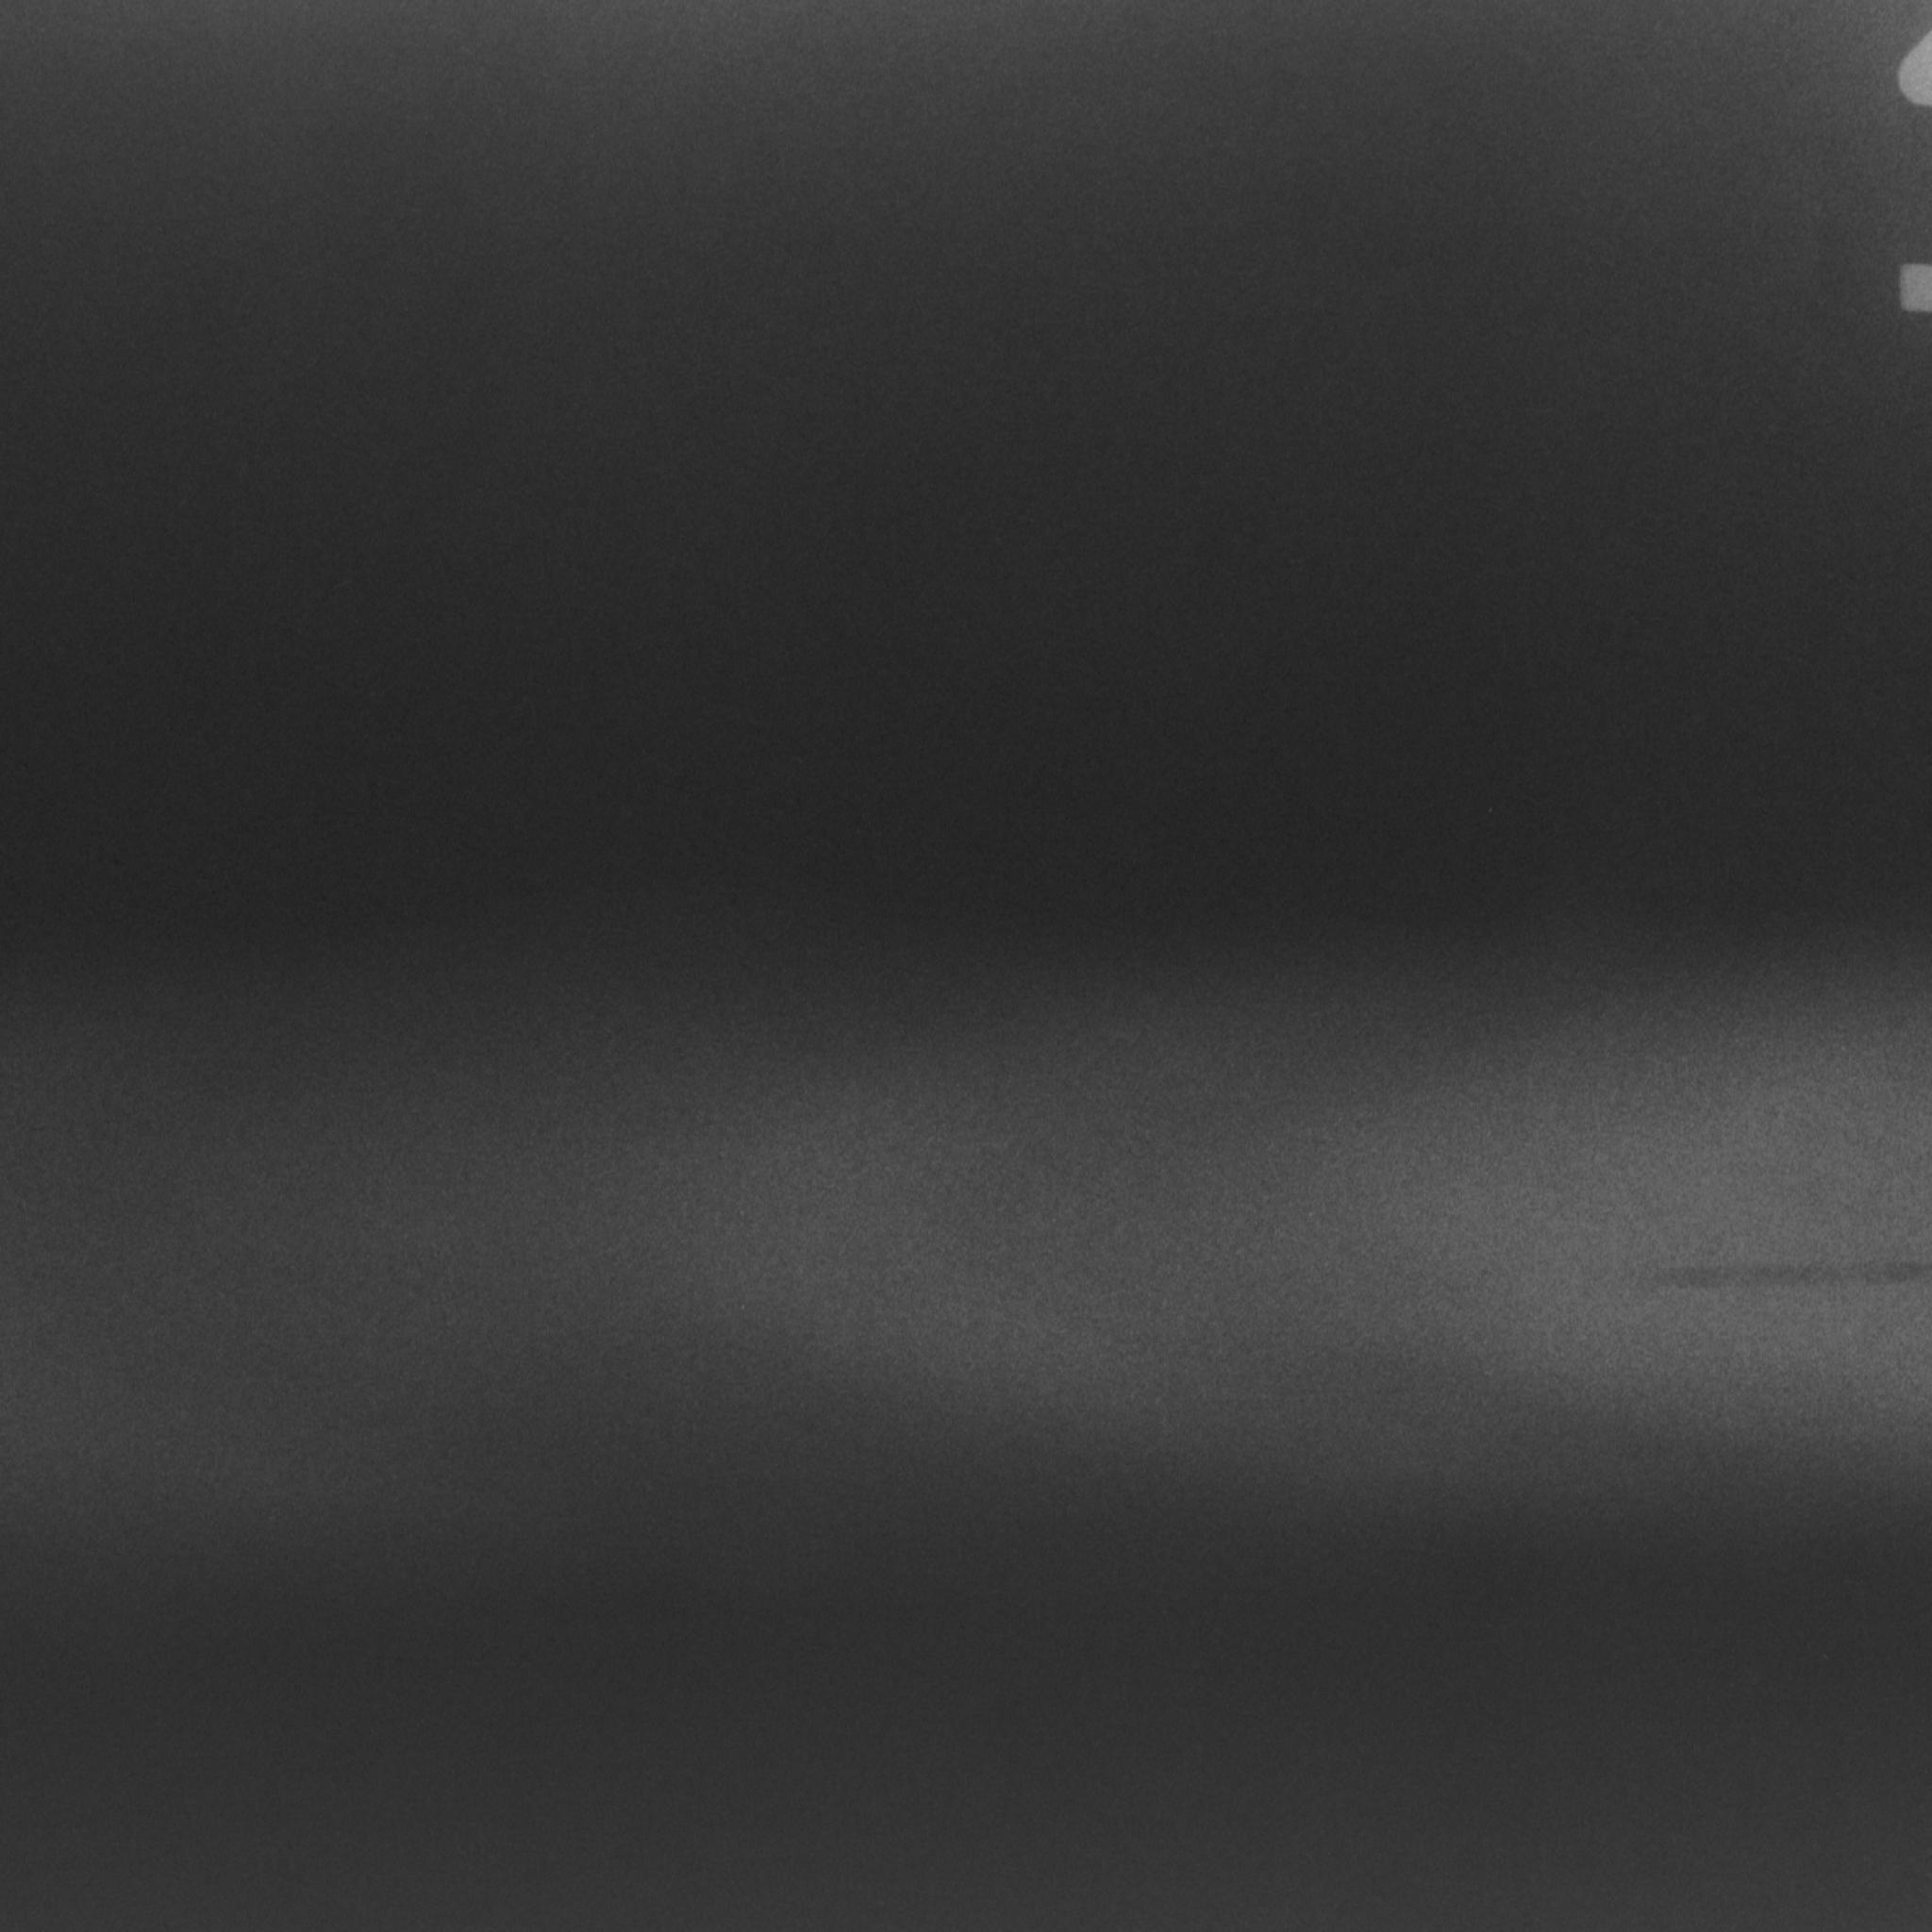FP: (1408, 1161, 1932, 1348)
